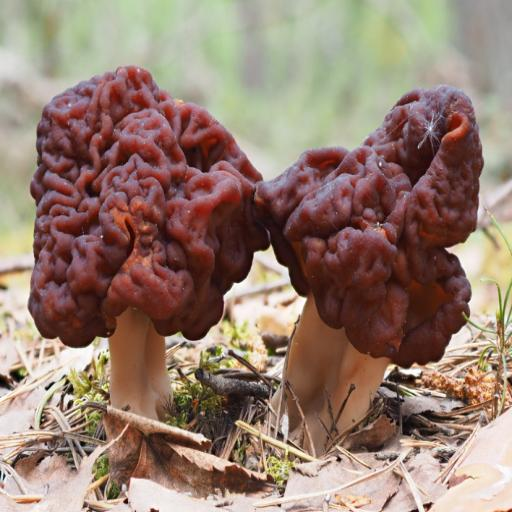False Morel: (22, 69, 480, 434)
